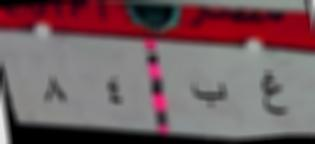4: (98, 70, 130, 111)
8: (39, 73, 71, 110)
baa: (187, 70, 234, 113)
ghayn: (252, 62, 292, 121)
